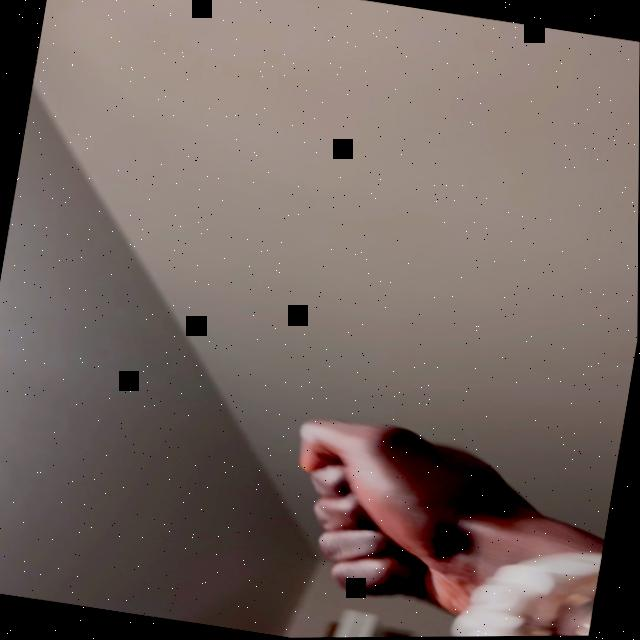Rock: (269, 411, 561, 622)
